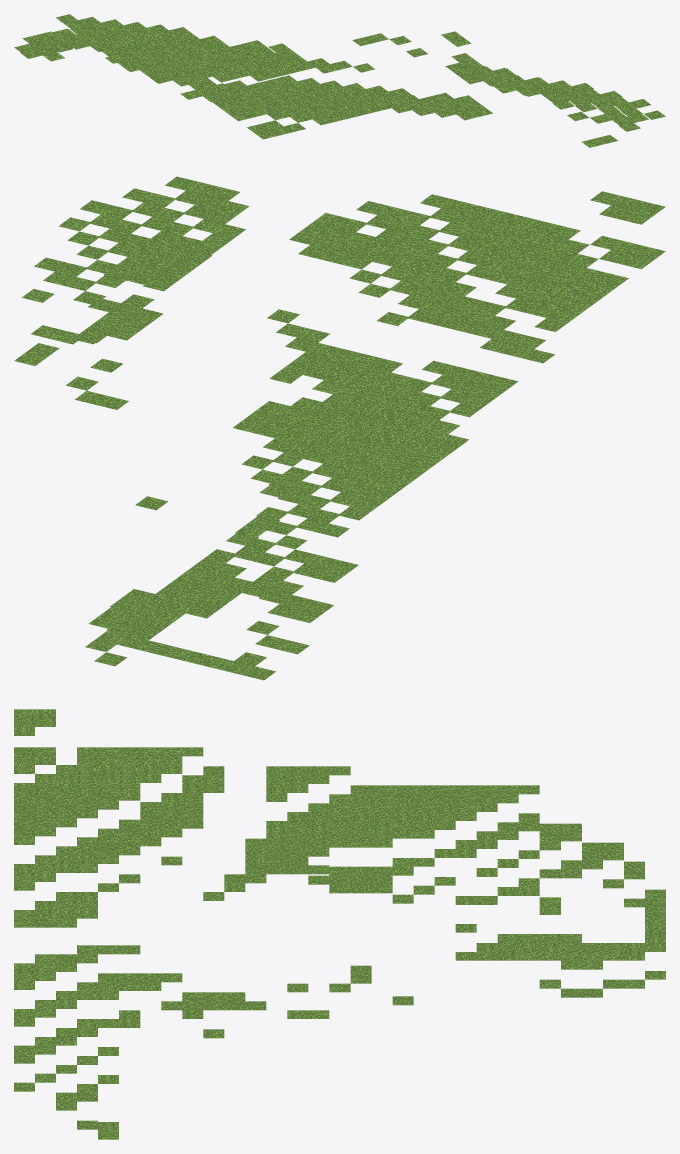
The model's file is lighthouse_grass_block_top.obj.
3 views of the same model, one above another, from view 1: azimuth 30°, elevation 25°; view 2: azimuth 150°, elevation 25°; view 3: azimuth 270°, elevation 25° (orthographic). The views are drawn at different scales.
Size of the model in its own units: 28 by 10 by 31.
